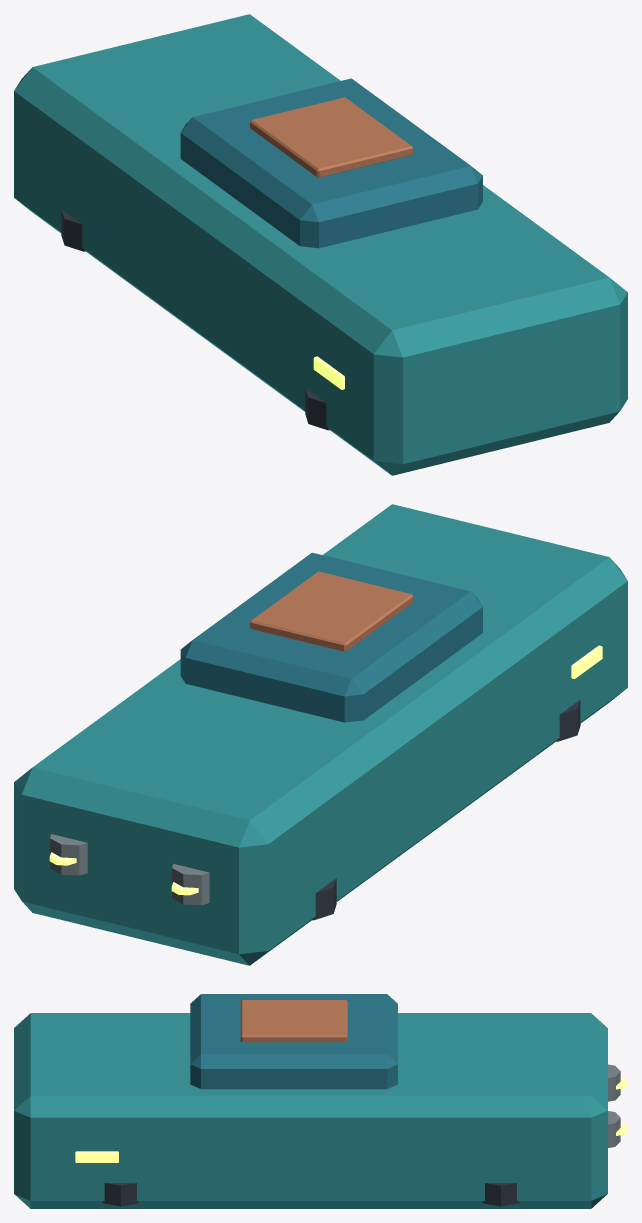
File: vehicles_008_seed100.glb
3 views of the same model, one above another, from view 1: azimuth 30°, elevation 25°; view 2: azimuth 150°, elevation 25°; view 3: azimuth 270°, elevation 25° (orthographic). The views are drawn at different scales.
Parts seen in each view (by area): view 1: vehicles_008_seed100; view 2: vehicles_008_seed100; view 3: vehicles_008_seed100.
Part boxes in pixels (box(x1,y1,x2,y2)): vehicles_008_seed100: box(14, 14, 627, 475); vehicles_008_seed100: box(14, 504, 627, 965); vehicles_008_seed100: box(14, 994, 627, 1208).
Size of the model in its own units: 2.33 by 1.59 by 5.9.
